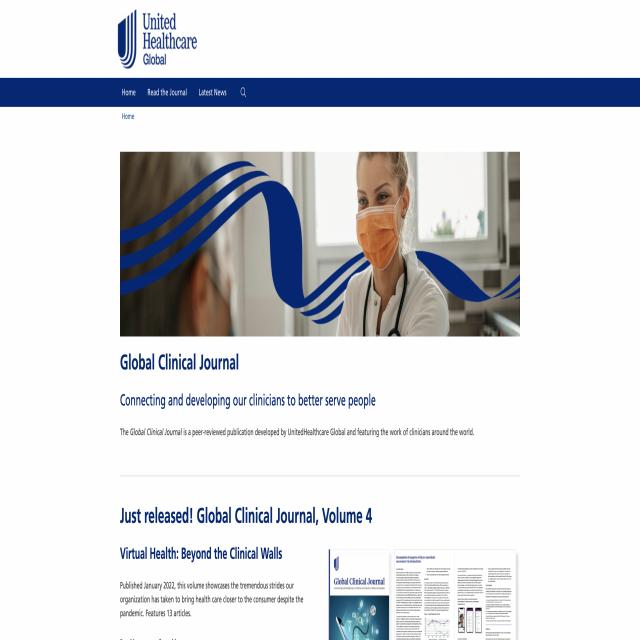Logo: (111, 0, 213, 77)
Navigation: (111, 77, 306, 103)
